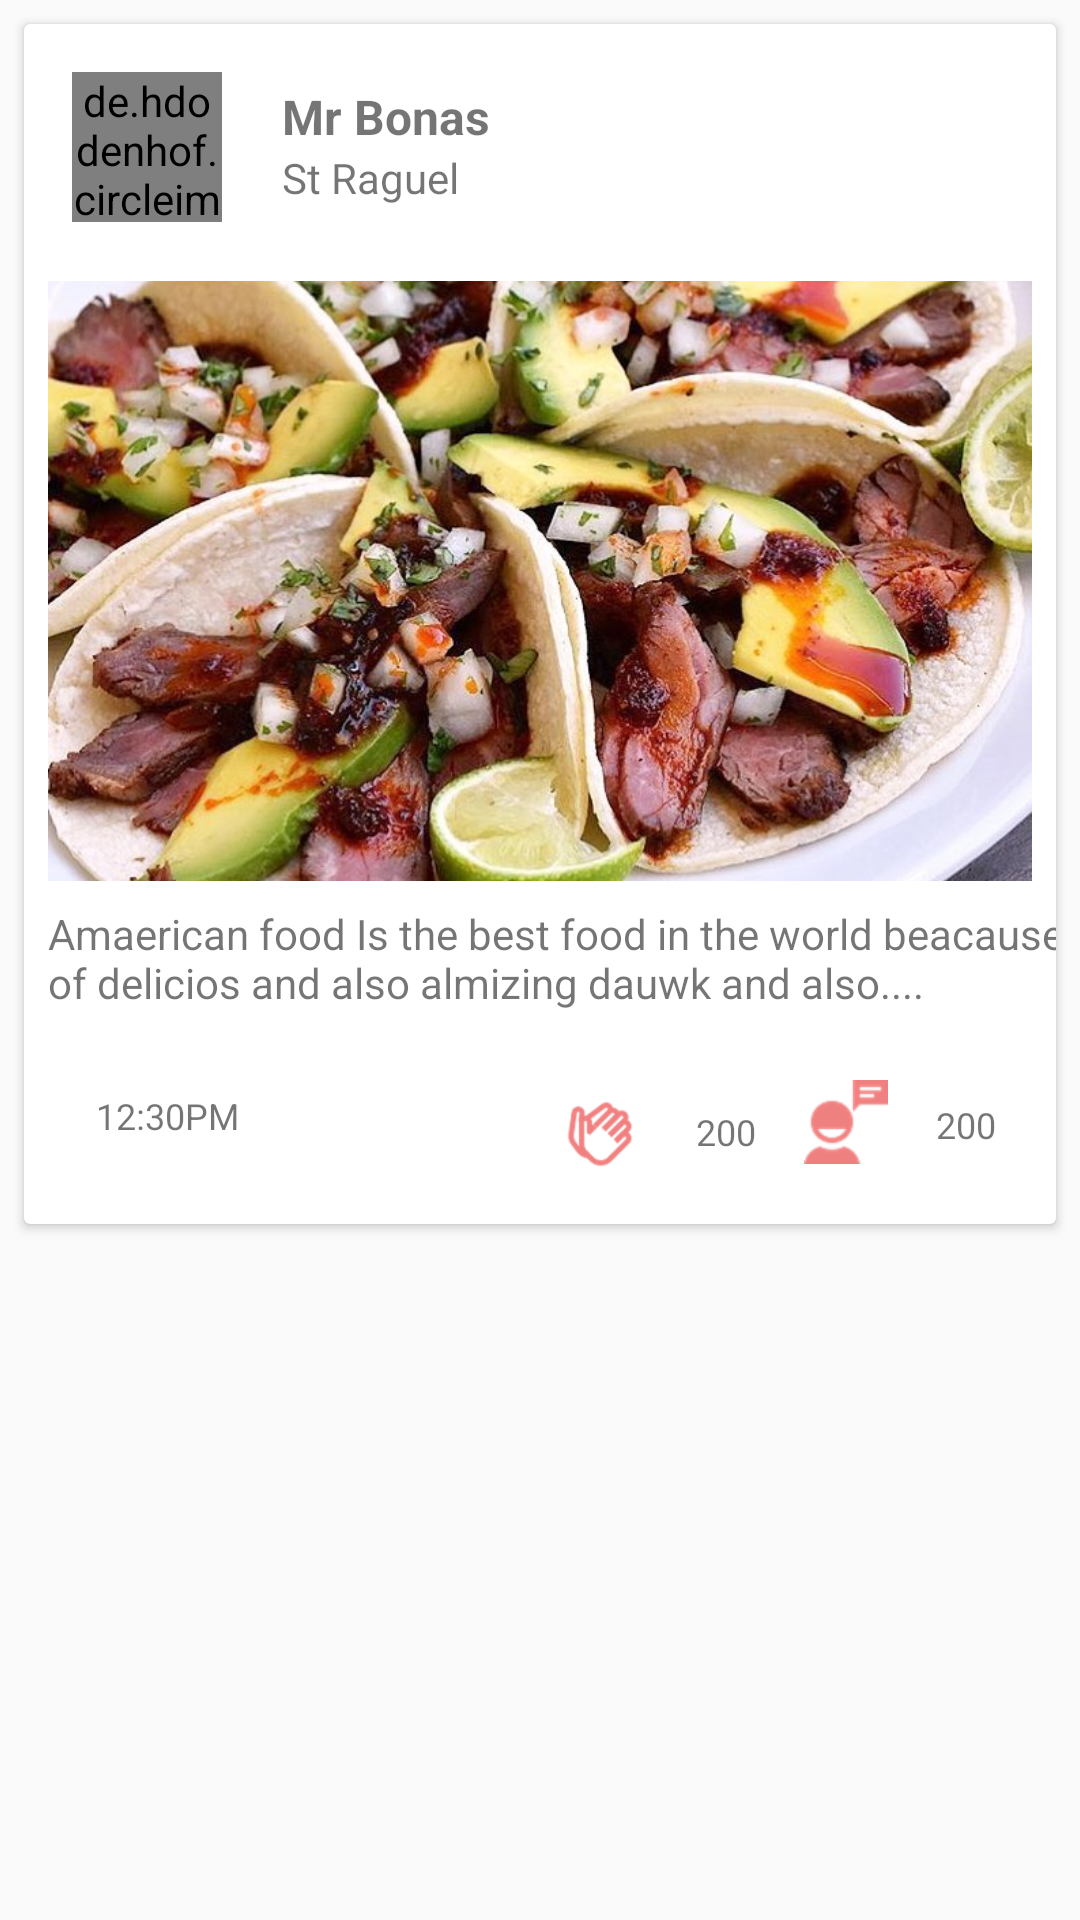

Icon click points for this 1080px×1920px phone screenshot, format (x,y):
redreadyclap: (600,1134)
talk: (846,1122)
